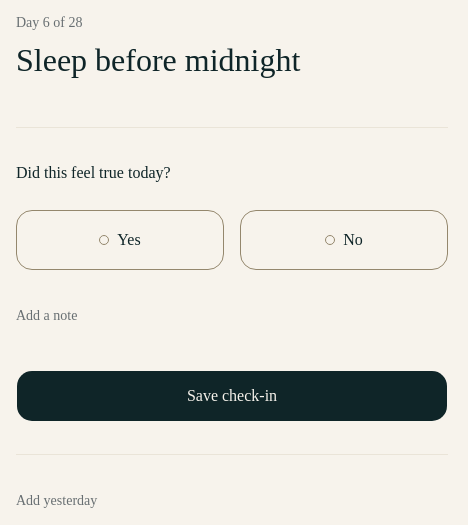
Test: TodayDashboard › during the season › saving No is exactly as available as saving Yes
The width and height of the screenshot is (468, 525).
Click the radio button labelled "No". click: (344, 240)
box: top-left (240, 210), bottom-right (448, 270)
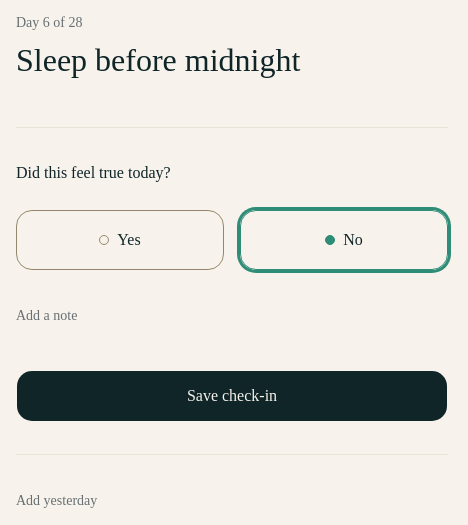
Click the button "Save check-in". click: (232, 396)
box: top-left (16, 370), bottom-right (448, 422)
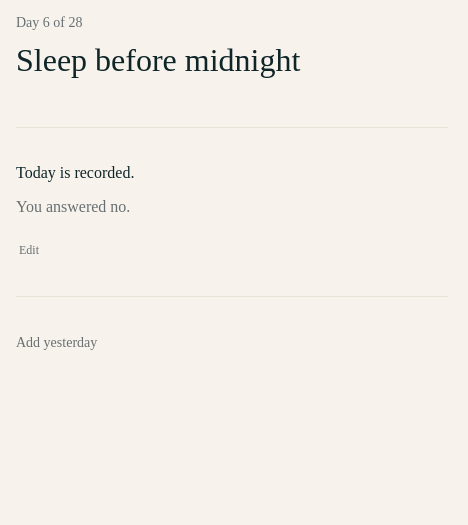
Result: the text "You answered no." is shown at top-left (16, 198), bottom-right (130, 215)
